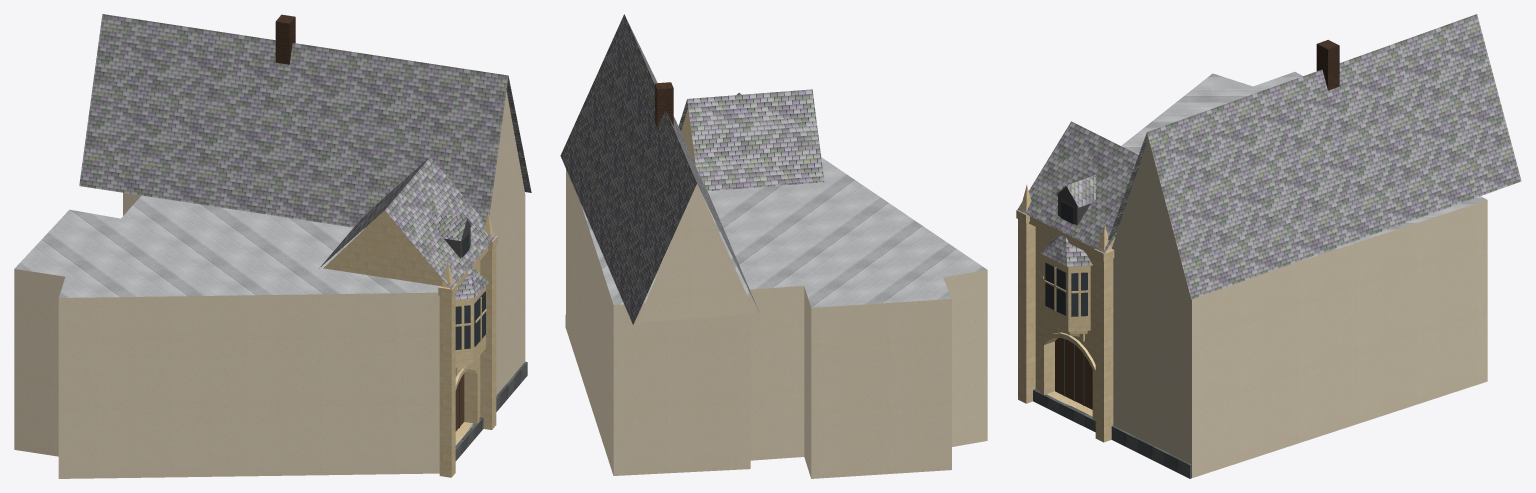
3 renders of one model, left to right at view 1: azimuth 30°, elevation 25°; view 2: azimuth 150°, elevation 25°; view 3: azimuth 270°, elevation 25°, orthographic. The views are drawn at different scales.
Visible parts, largest first — view 1: bldg_503176291_landmark; view 2: bldg_503176291_landmark; view 3: bldg_503176291_landmark.
Boxes of the visible parts, x1,y1,x2,y2 form: bldg_503176291_landmark: (14,14,531,478); bldg_503176291_landmark: (560,14,987,478); bldg_503176291_landmark: (1016,14,1521,478).
Size of the model in its own units: 21.55 by 15.4 by 20.18.
10 materials, 6 textured.
